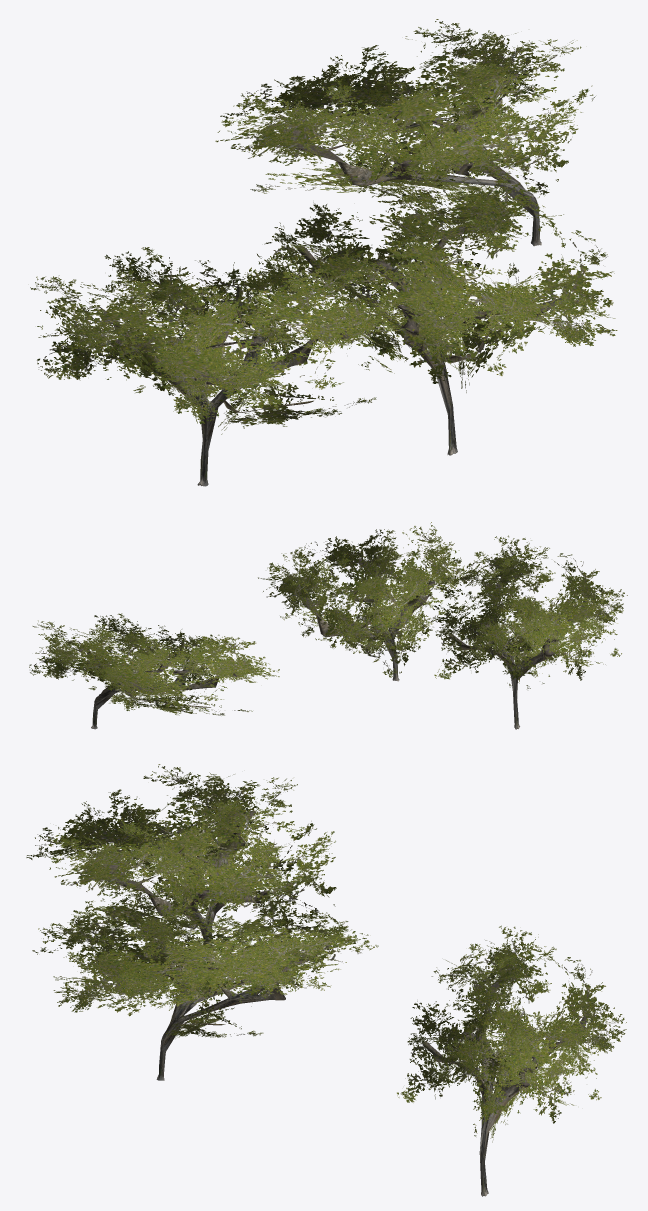
3 views of the same model, one above another, from view 1: azimuth 30°, elevation 25°; view 2: azimuth 150°, elevation 25°; view 3: azimuth 270°, elevation 25° (orthographic). The views are drawn at different scales.
Parts seen in each view (by area): view 1: Island tree branch clusters, Island tree bark; view 2: Island tree branch clusters, Island tree bark; view 3: Island tree branch clusters, Island tree bark.
Part boxes in pixels (bbox=[...]): Island tree branch clusters: bbox=[30, 19, 617, 434]; Island tree bark: bbox=[99, 73, 563, 486]; Island tree branch clusters: bbox=[29, 522, 627, 715]; Island tree bark: bbox=[77, 558, 588, 729]; Island tree branch clusters: bbox=[26, 764, 626, 1142]; Island tree bark: bbox=[93, 810, 587, 1196].
Bounding box in the file's own units: 48.11 × 14.09 × 41.66.
Materials: 2 (2 with a texture image).
